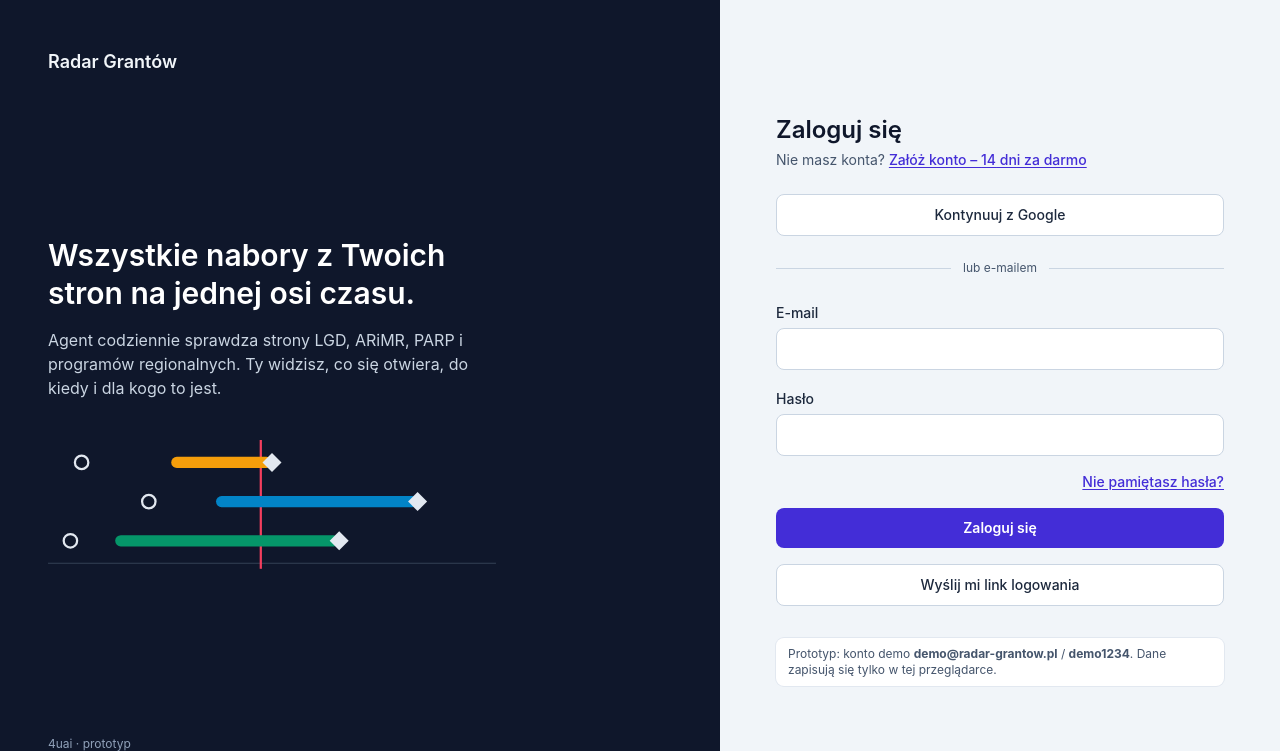
Scenario: Logowanie › poprawne logowanie otwiera aplikację z menu konta; wylogowanie wraca do logowania
Type "demo@radar-grantow.pl" into the field labelled "E-mail" at [1000, 349], box [776, 328, 1224, 370]
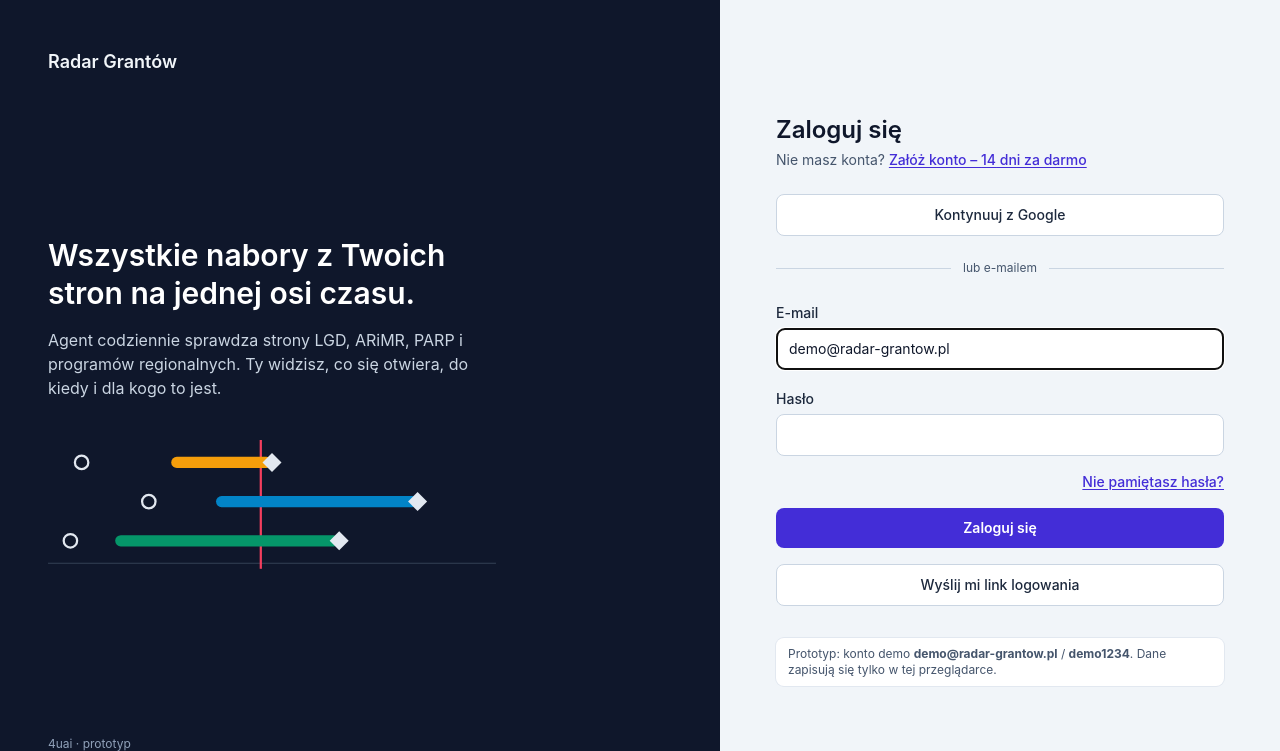
Type "demo1234" into the password field labelled "Hasło" at [1000, 435], box [776, 414, 1224, 456]
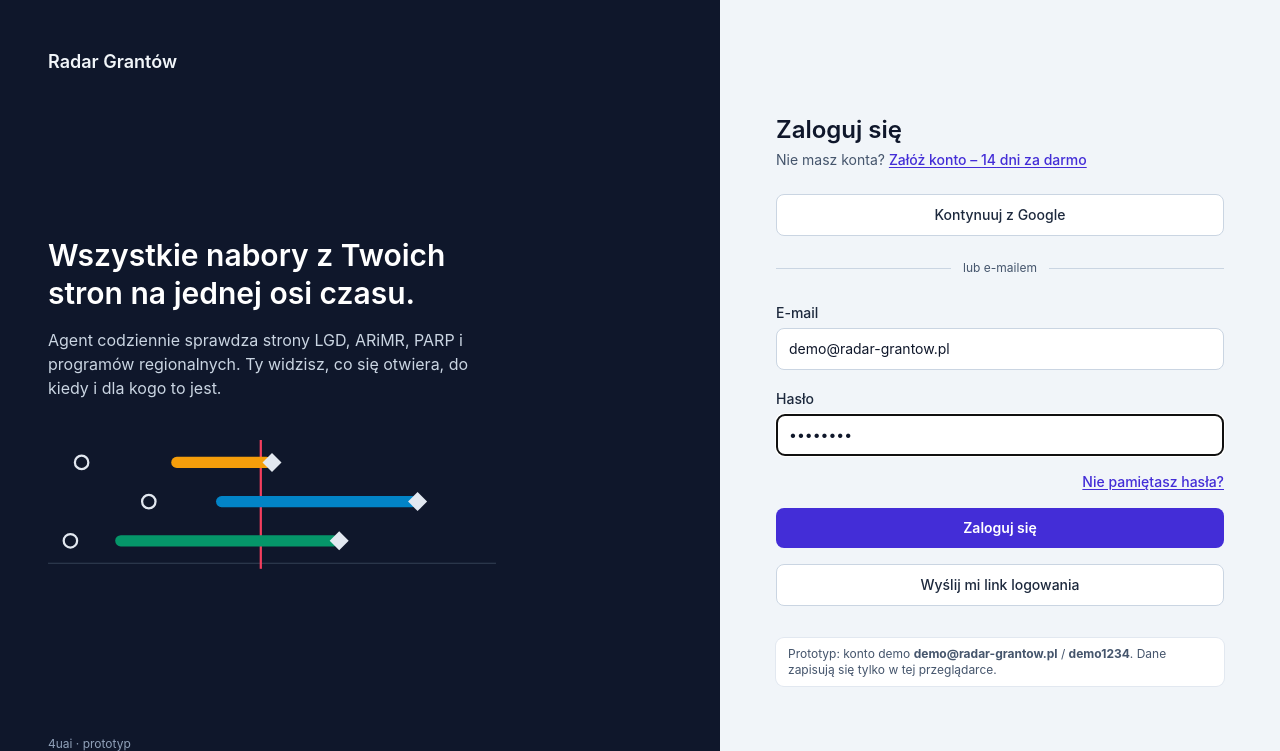
Click the button "Zaloguj się" at [1000, 528], box [776, 508, 1224, 548]
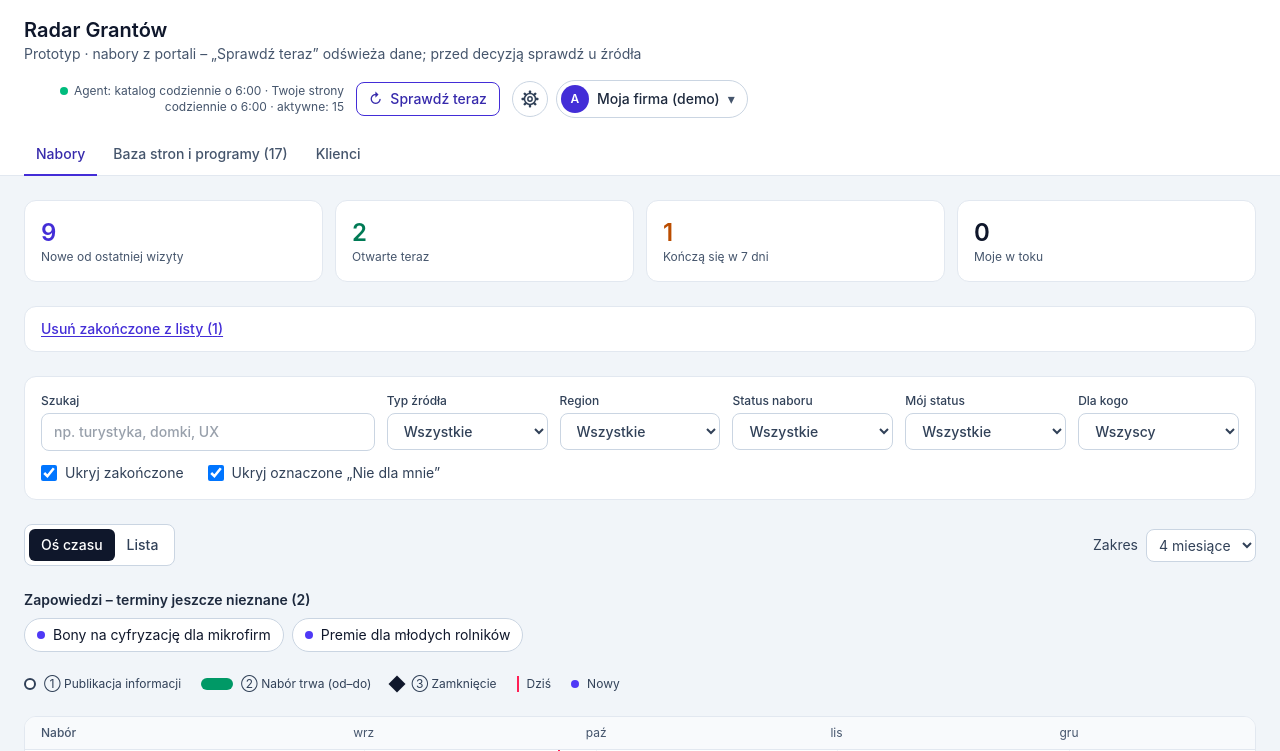
Now the tab "Nabory" is shown, box [24, 134, 97, 176]
Click the button with aria-label "Konto: Anna (demo)" at [652, 99], box [556, 80, 748, 118]
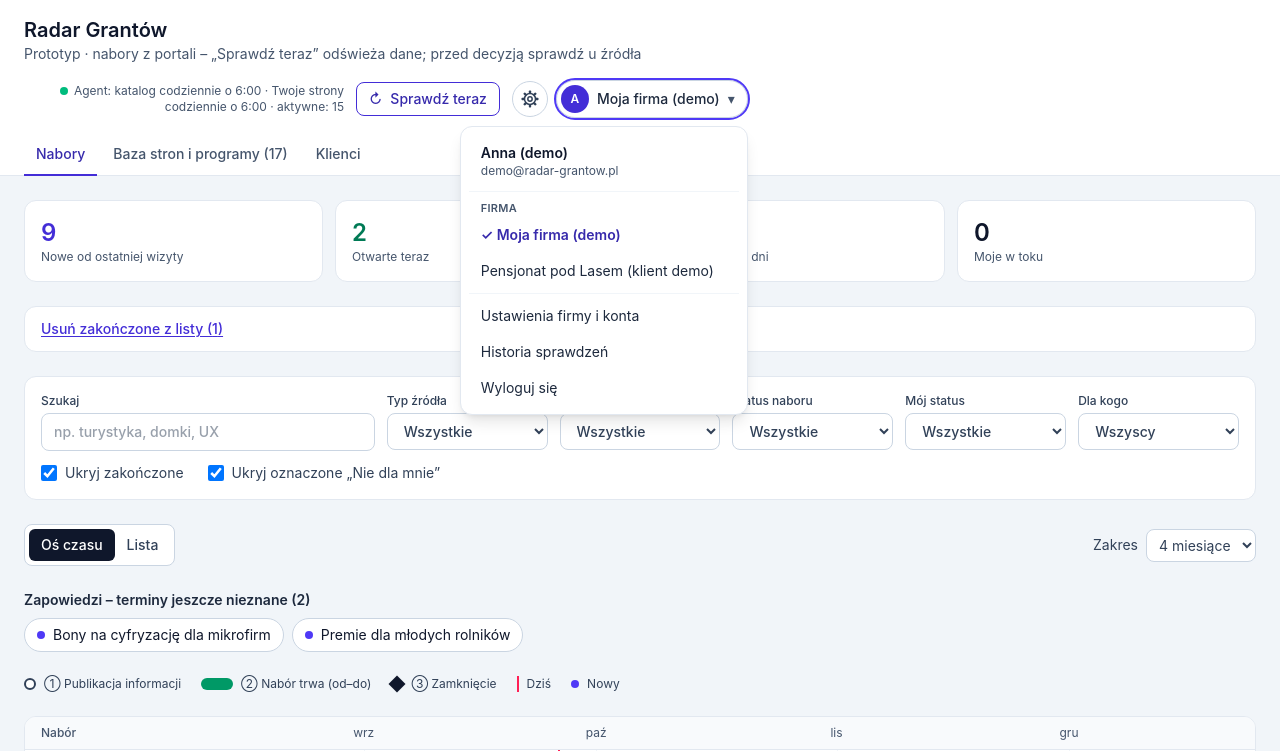
Click the button "Wyloguj się" at [519, 387], box [469, 370, 739, 406]
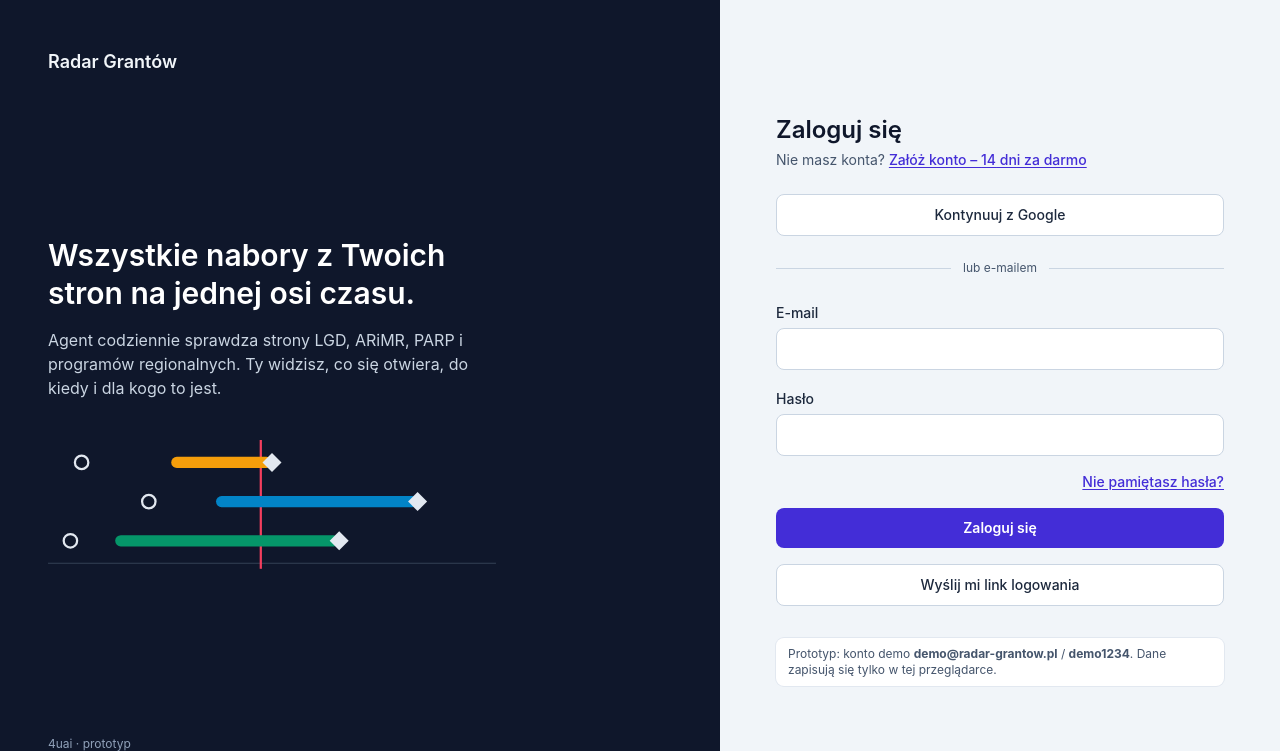
Now the heading "Zaloguj się" is shown, box [776, 115, 902, 144]
